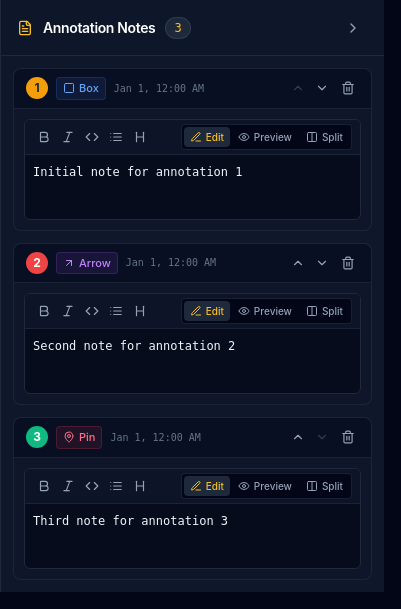
NotesSidebar Component Test Suite › Suite 5: Single-Click Deletion & Re-indexing › T5.1: Clicking delete button removes annotation immediately and renumbers remaining items
Click the button with test id "note-card-delete-1": (348, 88) [337, 77, 359, 99]
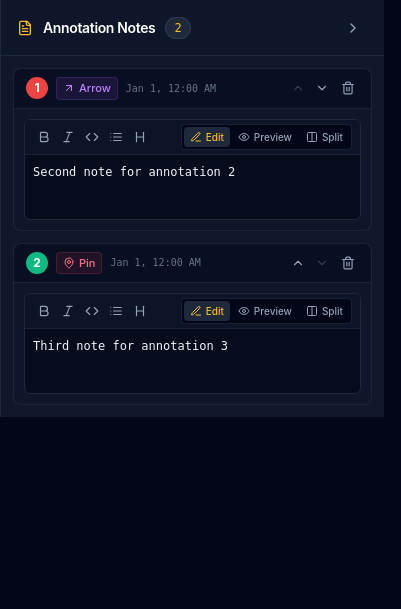
Now the element with test id "note-card-ann_1" is gone
Now the text with test id "sidebar-count-badge" reads "2", box [174, 20, 182, 34]
Now the text with test id "card-badge-ann_2" reads "1", box [34, 80, 40, 95]
